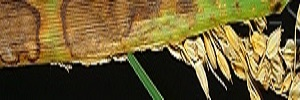RiceSheathBrownRot: (1, 1, 185, 60)
